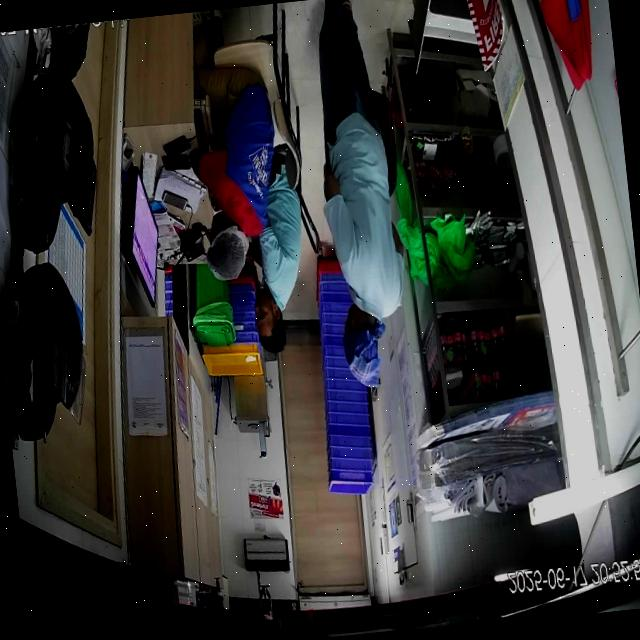helmet: (12, 61, 104, 252), (1, 265, 87, 441)
